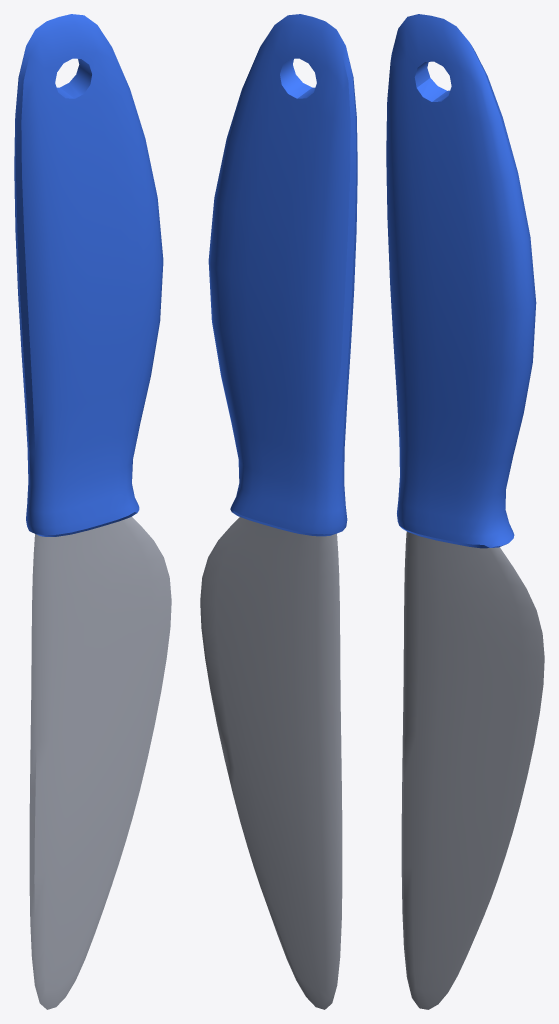
File: deliklibicak.fbx
The picture shows the model from 3 angles, left to right: view 1: azimuth 30°, elevation 25°; view 2: azimuth 150°, elevation 25°; view 3: azimuth 330°, elevation 25°; orthographic projection.
Visible parts, largest first — view 1: Cube.111; view 2: Cube.111; view 3: Cube.111.
Part boxes in pixels (x1,y1,x2,y2): Cube.111: [14, 14, 171, 1009]; Cube.111: [200, 14, 357, 1009]; Cube.111: [386, 14, 544, 1009].
Bounding box in the file's own units: 169 × 52.29 × 1026.
